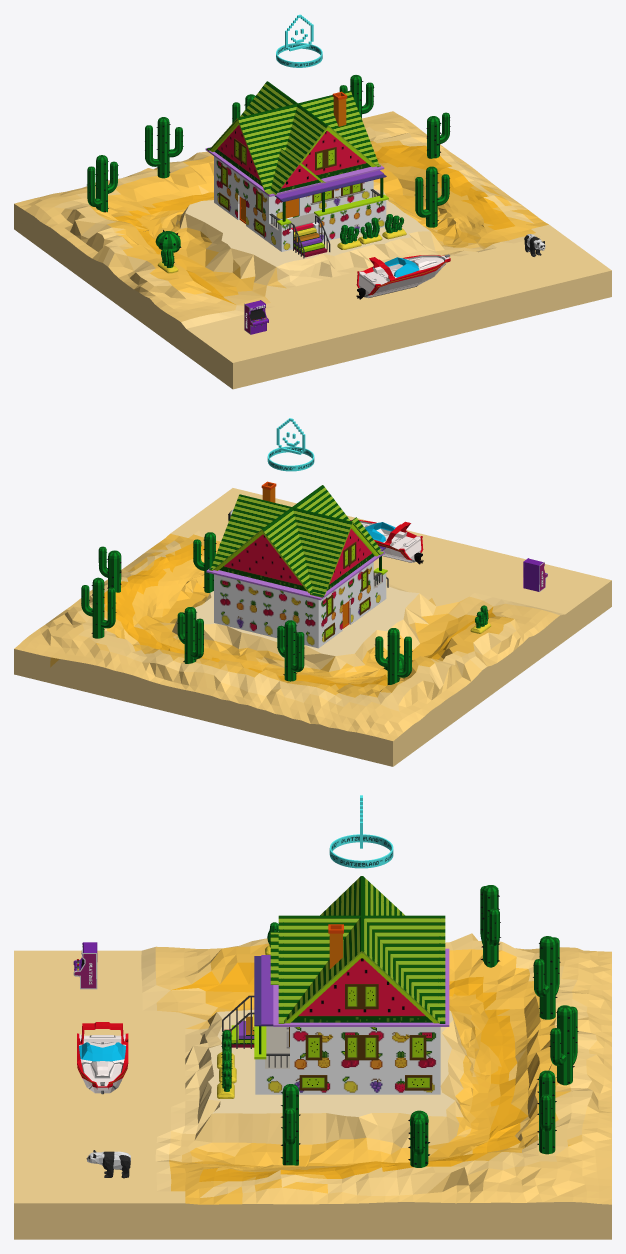
The picture shows the model from 3 angles, top to bottom: view 1: azimuth 30°, elevation 25°; view 2: azimuth 150°, elevation 25°; view 3: azimuth 270°, elevation 25°; orthographic projection. The views are drawn at different scales.
Visible parts, largest first — view 1: Cube.001, Cube.1063, VEHICLES_BOAT, Cylinder.044, Cylinder.037, Cylinder.045, TYPE_PREMIUM, Cylinder.038, OBJRANDOM_ARCADE, Cylinder.042; view 2: Cube.001, Cube.1063, VEHICLES_BOAT, Cylinder.042, Cylinder.045, Cylinder.044, Cylinder.043, TYPE_PREMIUM, Cylinder.037, Cylinder.038, OBJRANDOM_ARCADE; view 3: Cube.001, Cube.1063, VEHICLES_BOAT, Cylinder.044, Cylinder.043, Cylinder.045, Cylinder.042, Cylinder.037, TYPE_PREMIUM, Cylinder.038, OBJRANDOM_ARCADE, ANIMAL_PANDA.
Part boxes in pixels (x1,y1,x2,y2): Cube.001: (14, 111, 611, 389); Cube.1063: (205, 81, 388, 258); VEHICLES_BOAT: (356, 254, 450, 299); Cylinder.044: (145, 117, 183, 178); Cylinder.037: (415, 166, 449, 227); Cylinder.045: (87, 155, 118, 212); TYPE_PREMIUM: (276, 14, 322, 67); Cylinder.038: (426, 112, 450, 158); OBJRANDOM_ARCADE: (244, 300, 268, 334); Cylinder.042: (339, 75, 374, 118); Cube.001: (14, 488, 611, 766); Cube.1063: (206, 481, 388, 648); VEHICLES_BOAT: (350, 520, 423, 564); Cylinder.042: (81, 577, 116, 638); Cylinder.045: (374, 628, 412, 684); Cylinder.044: (277, 620, 304, 681); Cylinder.043: (177, 607, 203, 663); TYPE_PREMIUM: (267, 418, 314, 471); Cylinder.037: (193, 532, 220, 592); Cylinder.038: (98, 546, 121, 592); OBJRANDOM_ARCADE: (523, 558, 547, 591); Cube.001: (14, 933, 611, 1239); Cube.1063: (222, 876, 449, 1094); VEHICLES_BOAT: (77, 1022, 128, 1094); Cylinder.044: (533, 936, 560, 1019); Cylinder.043: (549, 1005, 578, 1085); Cylinder.045: (480, 885, 500, 967); Cylinder.042: (537, 1070, 556, 1154); Cylinder.037: (281, 1084, 300, 1165); TYPE_PREMIUM: (329, 795, 393, 868); Cylinder.038: (408, 1110, 429, 1167); OBJRANDOM_ARCADE: (73, 942, 97, 989); ANIMAL_PANDA: (86, 1150, 130, 1178).
Size of the model in its own units: 4002 by 2460 by 4001.
34 materials, 6 textured.
